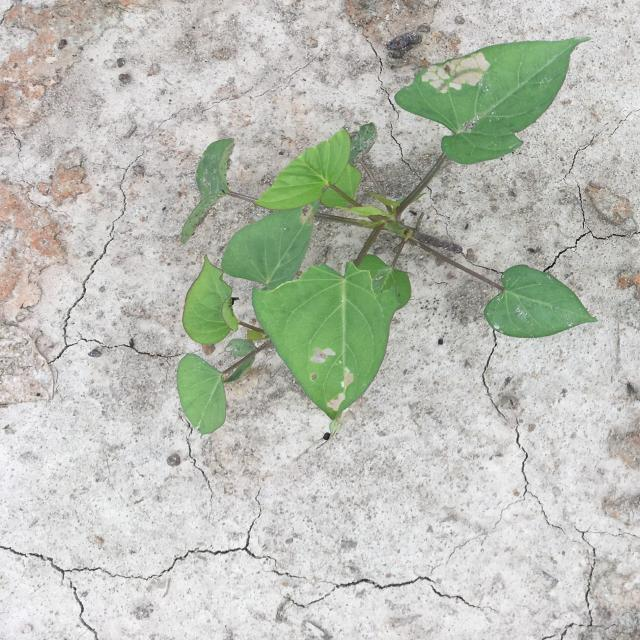MorningGlory: (177, 36, 599, 438)
